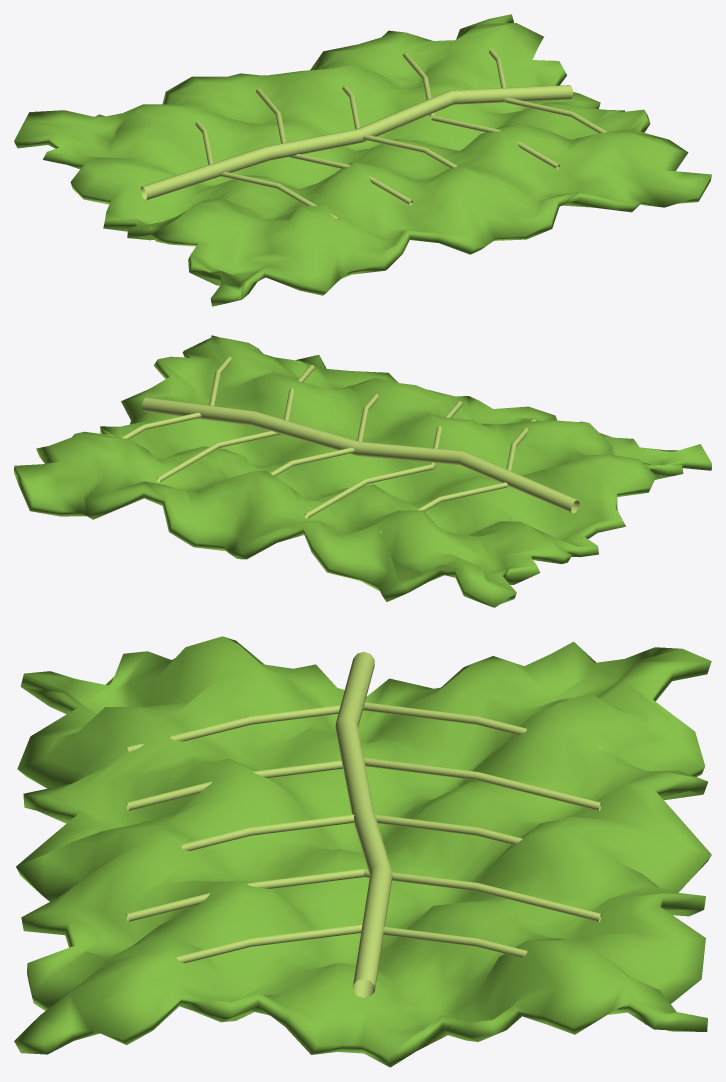
Rendered from lettuce.glb.
3 views of the same model, one above another, from view 1: azimuth 30°, elevation 25°; view 2: azimuth 150°, elevation 25°; view 3: azimuth 270°, elevation 25° (orthographic). The views are drawn at different scales.
Parts seen in each view (by area): view 1: Folded lettuce, Main leaf vein, Fine leaf vein.007, Fine leaf vein.009, Fine leaf vein.003, Fine leaf vein.001, Fine leaf vein.005; view 2: Folded lettuce, Main leaf vein, Fine leaf vein.002, Fine leaf vein.006, Fine leaf vein, Fine leaf vein.004, Fine leaf vein.008; view 3: Folded lettuce, Main leaf vein, Fine leaf vein.002, Fine leaf vein.006, Fine leaf vein.007, Fine leaf vein.009, Fine leaf vein.001, Fine leaf vein.005, Fine leaf vein.003, Fine leaf vein, Fine leaf vein.004, Fine leaf vein.008.
Boxes of the visible parts, bbox=[...] form: Folded lettuce: bbox=[14, 14, 711, 306]; Main leaf vein: bbox=[140, 85, 573, 200]; Fine leaf vein.007: bbox=[431, 115, 559, 169]; Fine leaf vein.009: bbox=[504, 97, 607, 133]; Fine leaf vein.003: bbox=[288, 154, 412, 205]; Fine leaf vein.001: bbox=[221, 172, 339, 220]; Fine leaf vein.005: bbox=[363, 134, 457, 168]; Folded lettuce: bbox=[14, 335, 711, 607]; Main leaf vein: bbox=[142, 397, 579, 513]; Fine leaf vein.002: bbox=[304, 464, 433, 518]; Fine leaf vein.006: bbox=[156, 431, 281, 482]; Fine leaf vein: bbox=[379, 482, 507, 532]; Fine leaf vein.004: bbox=[270, 447, 354, 476]; Fine leaf vein.008: bbox=[120, 412, 201, 438]; Folded lettuce: bbox=[14, 636, 711, 1067]; Main leaf vein: bbox=[335, 651, 392, 997]; Fine leaf vein.002: bbox=[364, 757, 601, 810]; Fine leaf vein.006: bbox=[364, 868, 601, 921]; Fine leaf vein.007: bbox=[126, 868, 363, 921]; Fine leaf vein.009: bbox=[176, 924, 362, 963]; Fine leaf vein.001: bbox=[126, 705, 363, 752]; Fine leaf vein.005: bbox=[181, 814, 354, 850]; Fine leaf vein.003: bbox=[126, 760, 342, 810]; Fine leaf vein: bbox=[364, 702, 600, 748]; Fine leaf vein.004: bbox=[375, 814, 522, 845]; Fine leaf vein.008: bbox=[383, 926, 527, 957].
Bounding box in the file's own units: 1.03 × 0.1374 × 0.7971.
